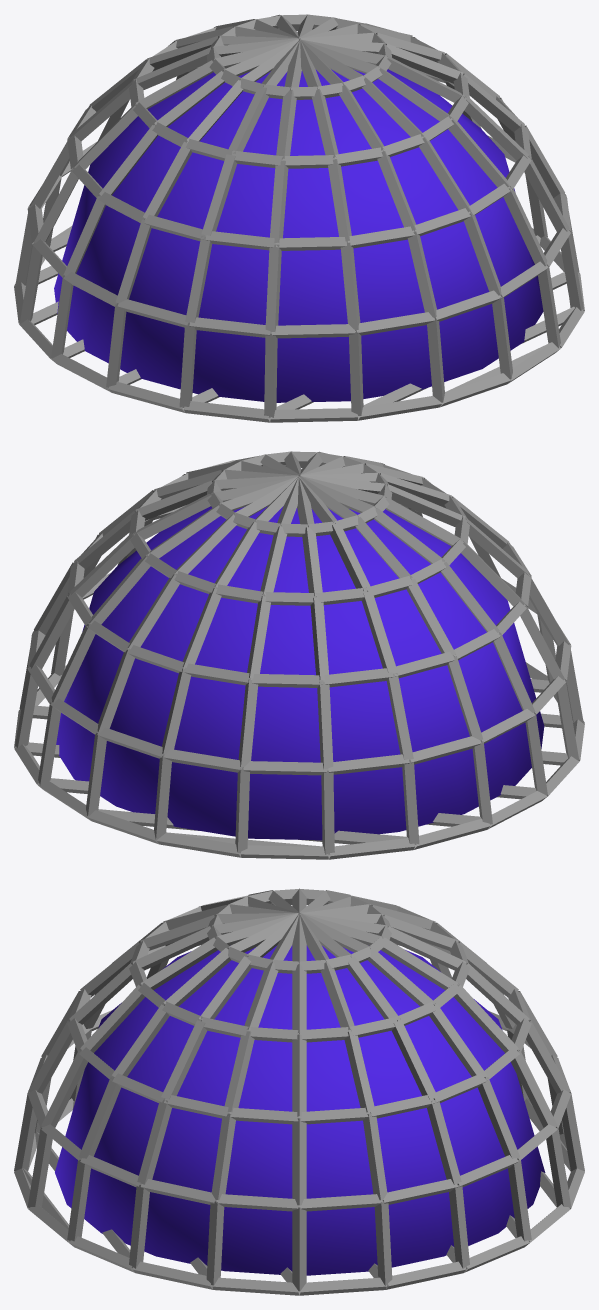
The model's file is nos drone.FBX.
3 renders of one model, top to bottom at view 1: azimuth 30°, elevation 25°; view 2: azimuth 150°, elevation 25°; view 3: azimuth 270°, elevation 25°, orthographic.
Visible parts, largest first — view 1: Sphere004; view 2: Sphere004; view 3: Sphere004.
Part boxes in pixels (bbox=[...]): Sphere004: bbox=[14, 14, 584, 422]; Sphere004: bbox=[14, 451, 584, 859]; Sphere004: bbox=[14, 888, 584, 1295].
Size of the model in its own units: 16.34 by 9.55 by 16.34.
